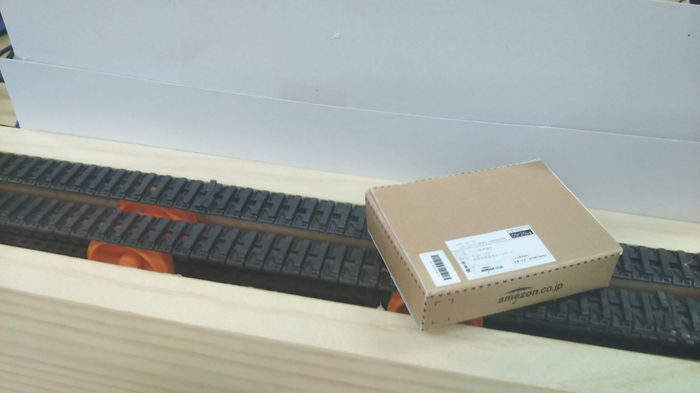box2: (362, 155, 624, 332)
